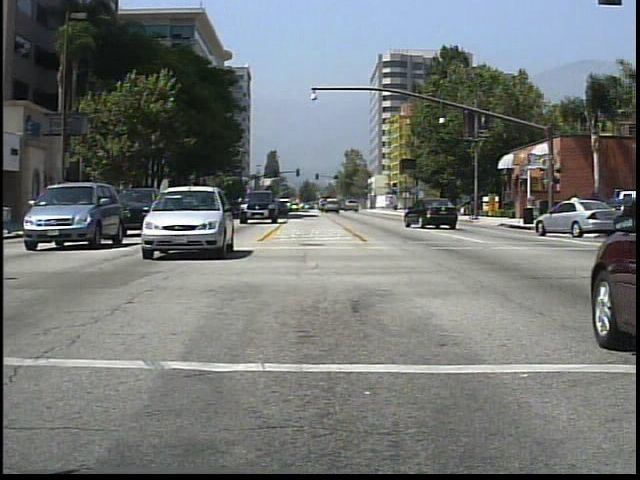person: (567, 191, 588, 235), (524, 192, 540, 228)
